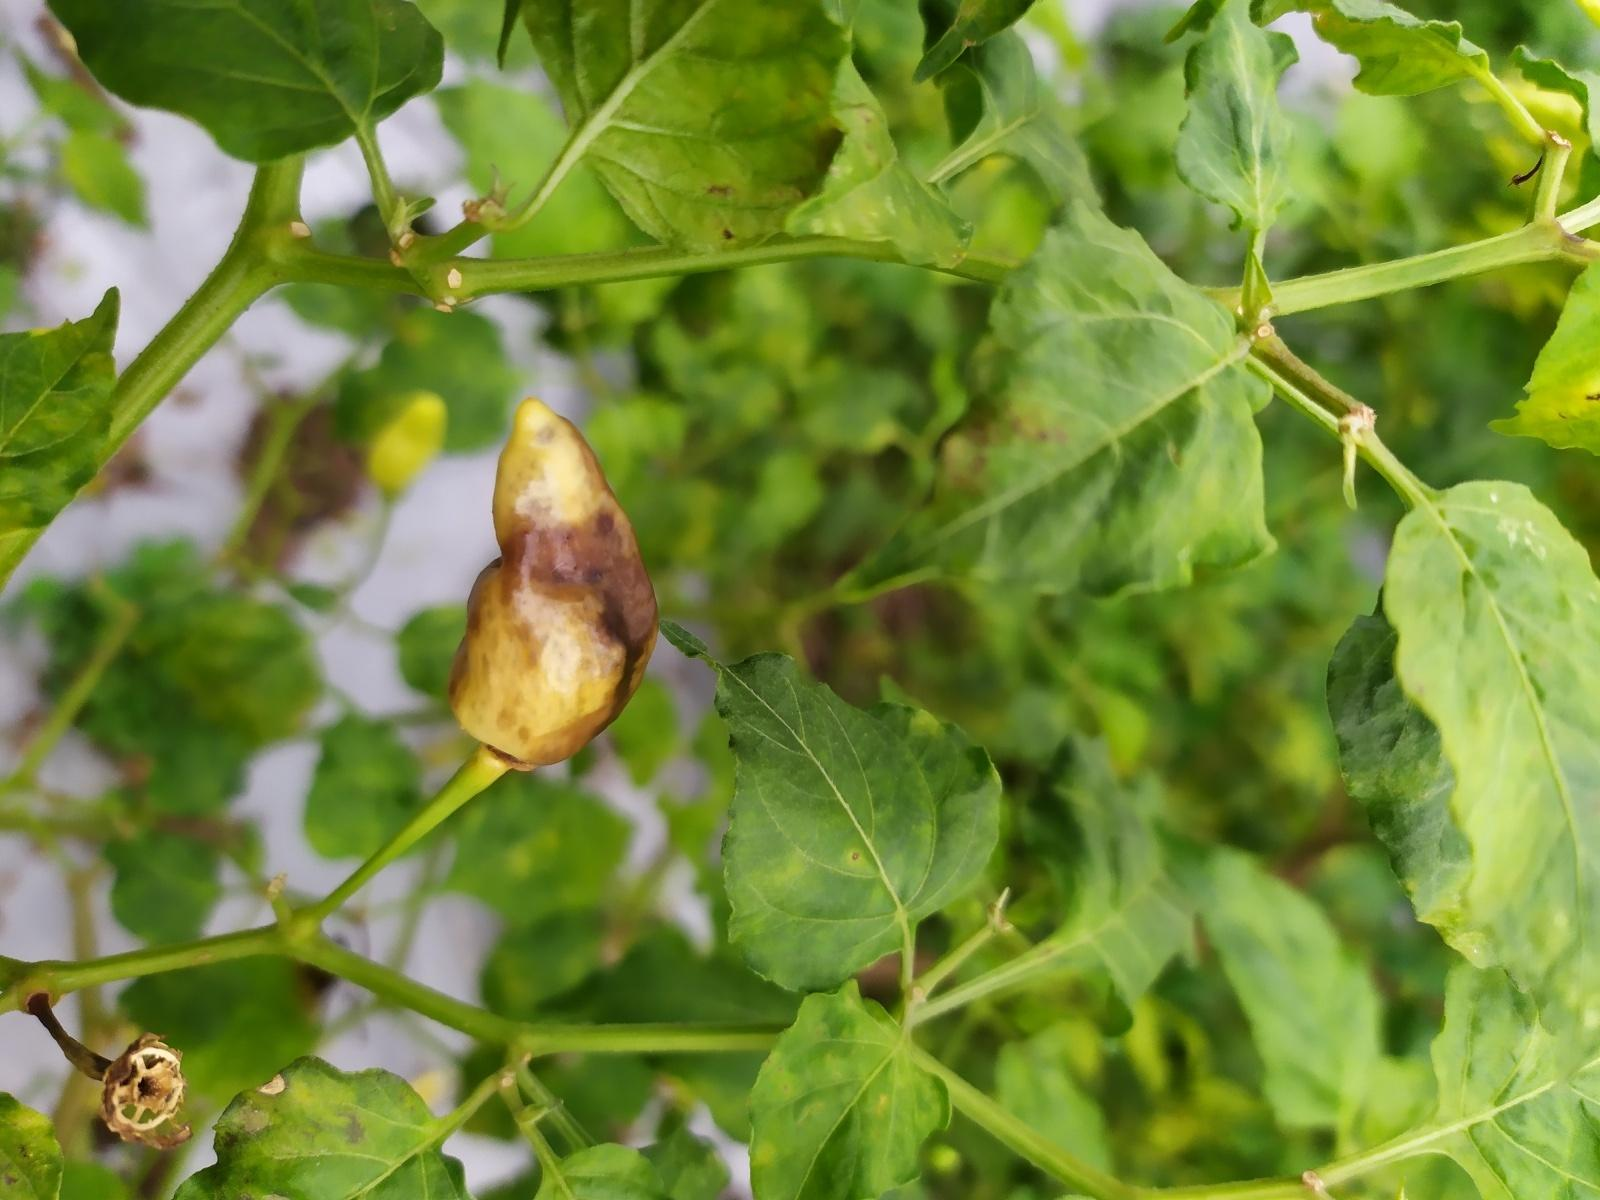lalat_buah: (442, 395, 659, 770)
